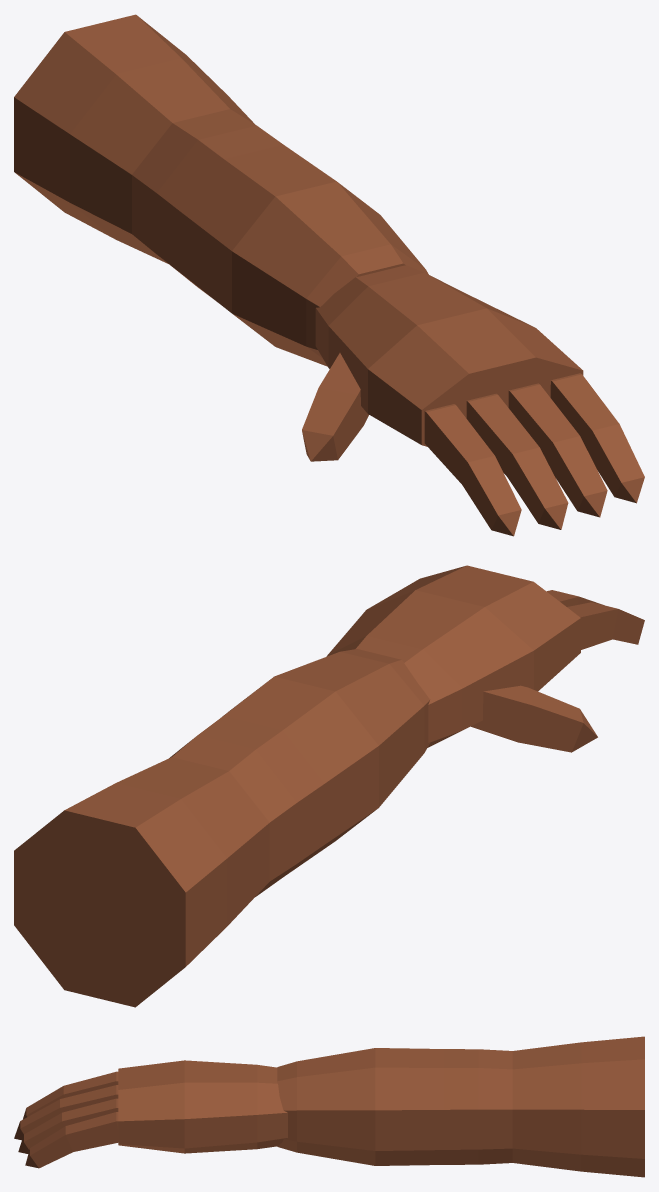
File: FisherFPArm.fbx
3 renders of one model, top to bottom at view 1: azimuth 30°, elevation 25°; view 2: azimuth 150°, elevation 25°; view 3: azimuth 270°, elevation 25°, orthographic. The views are drawn at different scales.
Parts seen in each view (by area): view 1: FisherFPArm; view 2: FisherFPArm; view 3: FisherFPArm.
Part boxes in pixels (x1,y1,x2,y2): FisherFPArm: (14, 14, 644, 536); FisherFPArm: (14, 565, 644, 1007); FisherFPArm: (14, 1036, 644, 1177).
Size of the model in its own units: 0.1248 by 0.0931 by 0.4507.
Materials: 1 (1 with a texture image).
